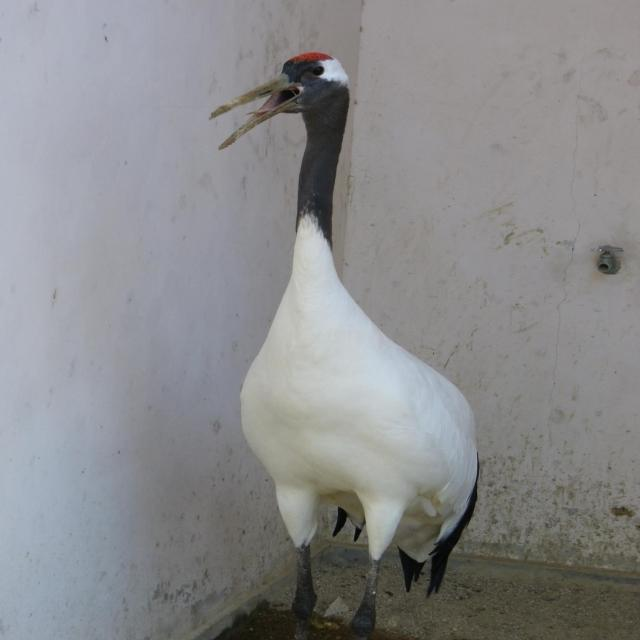bird: (178, 47, 528, 640)
